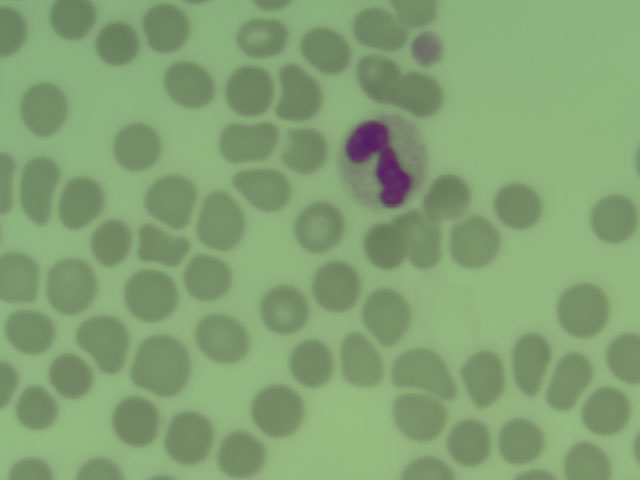Platelets: (413, 34, 443, 64)
RBC: (133, 334, 193, 392), (508, 327, 549, 393), (544, 345, 584, 411), (274, 61, 317, 116), (113, 124, 162, 171), (126, 266, 175, 313), (78, 315, 127, 362), (350, 53, 399, 100), (301, 26, 350, 73), (283, 127, 332, 174), (290, 204, 339, 251), (224, 67, 273, 114), (47, 259, 96, 306), (59, 173, 108, 220), (88, 216, 137, 263), (197, 197, 246, 244), (143, 172, 192, 219), (165, 60, 214, 107), (18, 85, 67, 132), (91, 23, 140, 70), (364, 221, 413, 268), (335, 333, 384, 380), (363, 288, 412, 335), (312, 263, 361, 310), (257, 284, 306, 331), (287, 338, 336, 385), (254, 380, 303, 427), (164, 409, 213, 456), (111, 395, 160, 442), (197, 311, 246, 358), (14, 384, 63, 431), (47, 351, 96, 398), (184, 253, 233, 300), (498, 419, 547, 466), (445, 414, 494, 461), (394, 391, 443, 438), (458, 349, 507, 396), (388, 341, 437, 388), (556, 282, 605, 329), (591, 193, 640, 240), (492, 181, 541, 228), (445, 218, 494, 265), (422, 175, 471, 222), (576, 385, 625, 432), (563, 433, 612, 480), (216, 430, 265, 477), (134, 224, 192, 261), (2, 304, 56, 343), (143, 7, 189, 52), (222, 121, 275, 159), (230, 168, 288, 202), (399, 72, 443, 116), (234, 19, 289, 54), (356, 9, 405, 48), (21, 162, 54, 218), (603, 330, 640, 379), (1, 251, 35, 299), (50, 1, 95, 37), (76, 454, 127, 480), (1, 7, 28, 56), (6, 453, 54, 480), (396, 1, 441, 24)
WBC: (340, 116, 426, 207)
